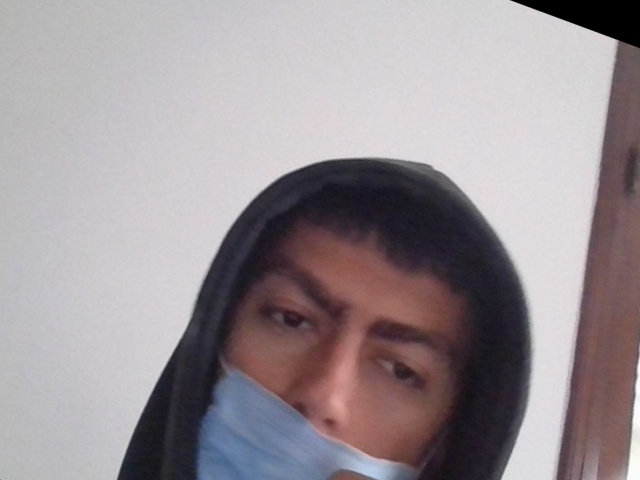mask_weared_incorrect: (175, 187, 490, 480)
